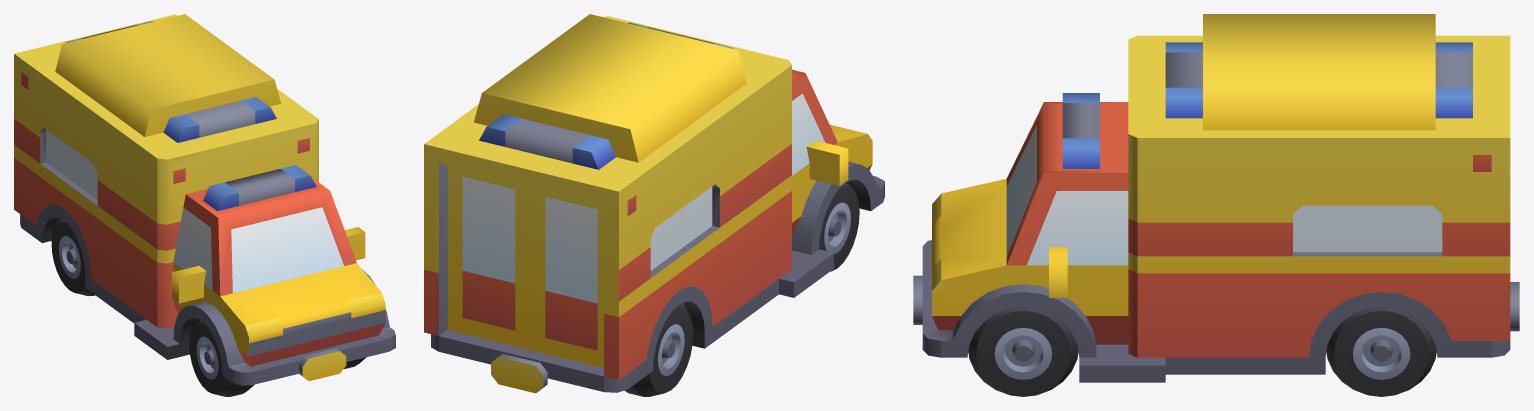
File: ambulance.glb
3 views of the same model, side by side, from view 1: azimuth 30°, elevation 25°; view 2: azimuth 150°, elevation 25°; view 3: azimuth 270°, elevation 25° (orthographic). The views are drawn at different scales.
Visible parts, largest first — view 1: body, wheel-front-right, wheel-back-right; view 2: body, door-left, door-right, wheel-back-right, wheel-front-right; view 3: body, wheel-back-left, wheel-front-left.
Boxes of the visible parts, left/top/right/bottom form: body: left=14, top=14, right=395, bottom=385; wheel-front-right: left=189, top=320, right=254, bottom=396; wheel-back-right: left=51, top=219, right=95, bottom=296; body: left=424, top=14, right=884, bottom=393; door-left: left=447, top=165, right=530, bottom=349; door-right: left=530, top=186, right=603, bottom=367; wheel-back-right: left=624, top=304, right=693, bottom=396; wheel-front-right: left=819, top=183, right=859, bottom=271; body: left=913, top=14, right=1519, bottom=382; wheel-back-left: left=1326, top=307, right=1436, bottom=396; wheel-front-left: left=968, top=307, right=1078, bottom=396.
Size of the model in its own units: 1.5 by 1.8 by 3.25.
1 material, 1 textured.
